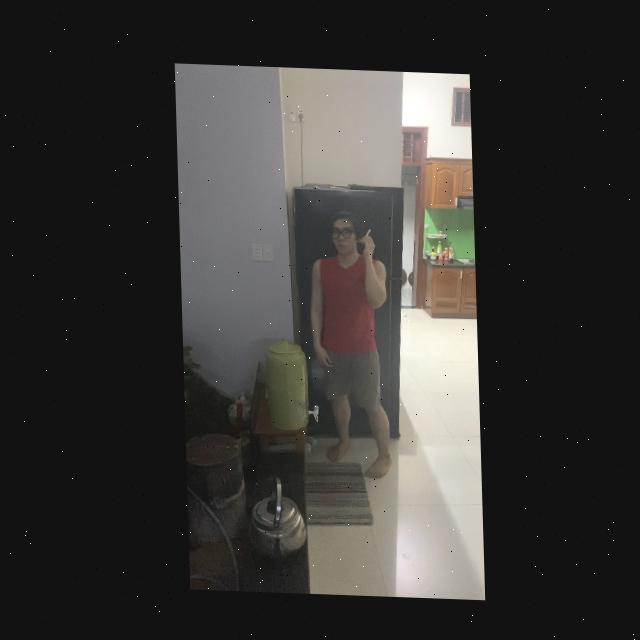cigarette: (359, 226, 369, 243)
